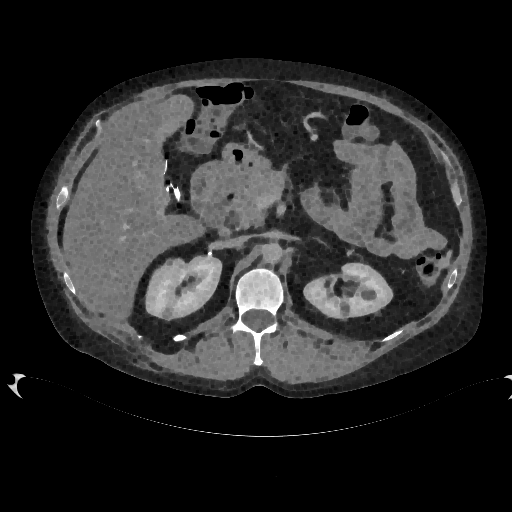Lesion: (161, 302, 175, 320)
